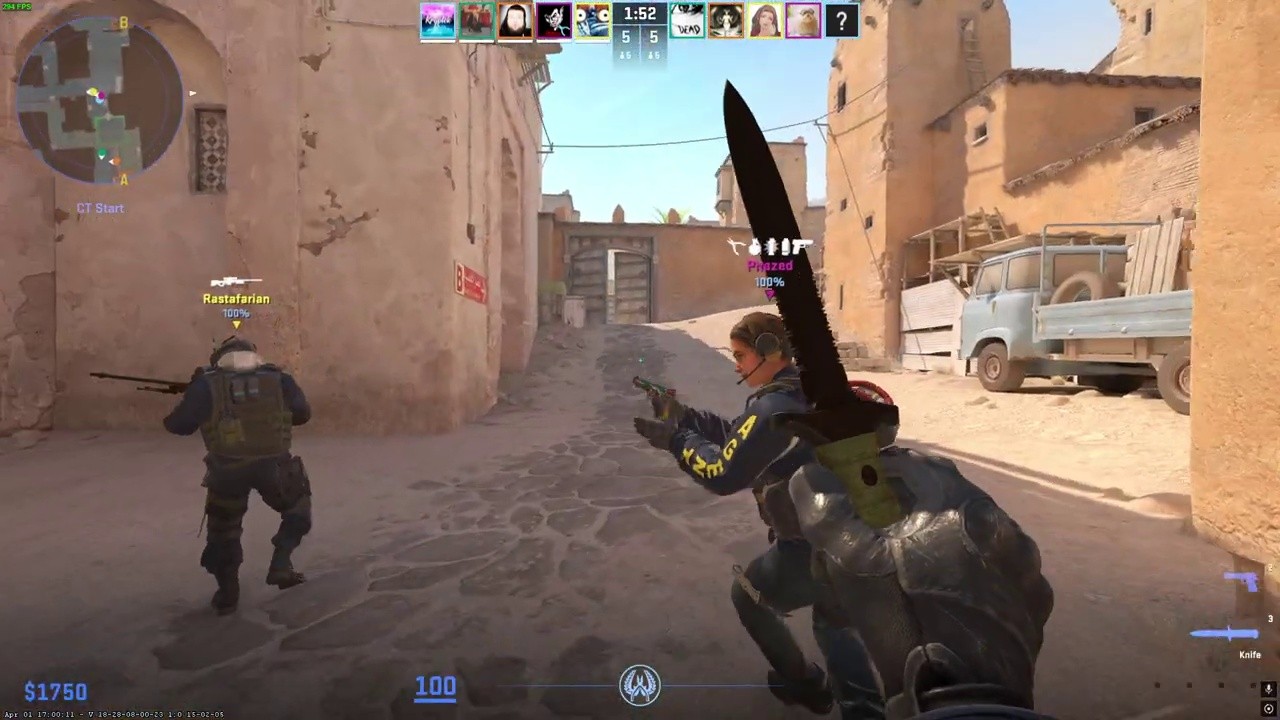CT: (697, 311, 852, 716), (179, 334, 314, 617)
